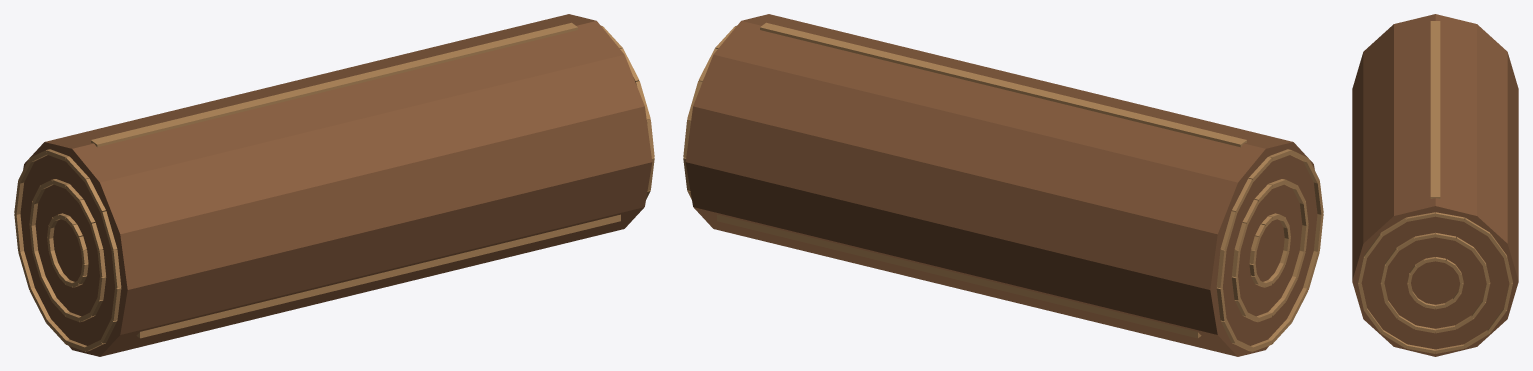
File: LogProjectile.fbx
3 views of the same model, side by side, from view 1: azimuth 30°, elevation 25°; view 2: azimuth 150°, elevation 25°; view 3: azimuth 270°, elevation 25° (orthographic). The views are drawn at different scales.
Parts seen in each view (by area): view 1: LogProjectile.001; view 2: LogProjectile.001; view 3: LogProjectile.001.
Part boxes in pixels (x1,y1,x2,y2): LogProjectile.001: (14, 14, 654, 356); LogProjectile.001: (683, 14, 1323, 356); LogProjectile.001: (1352, 14, 1518, 356).
Size of the model in its own units: 123 by 44.25 by 44.
